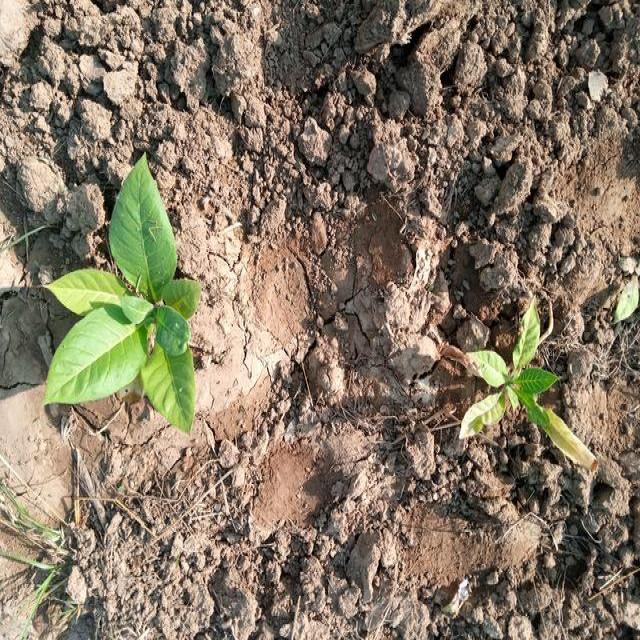crop: (38, 159, 195, 417), (451, 295, 582, 457)
